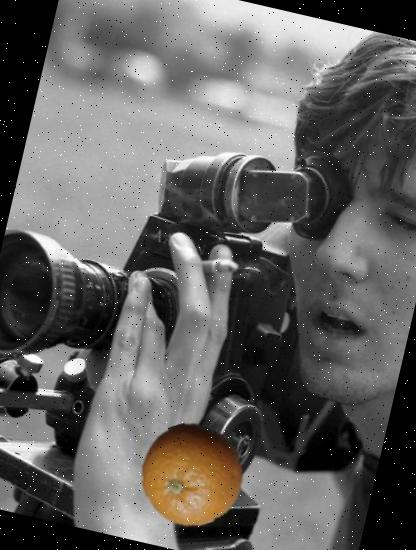Orange: (131, 412, 254, 536)
